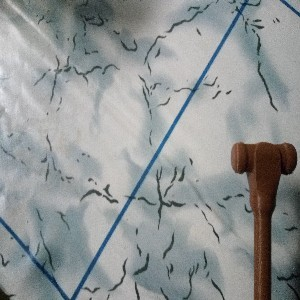palu: (230, 141, 298, 300)
